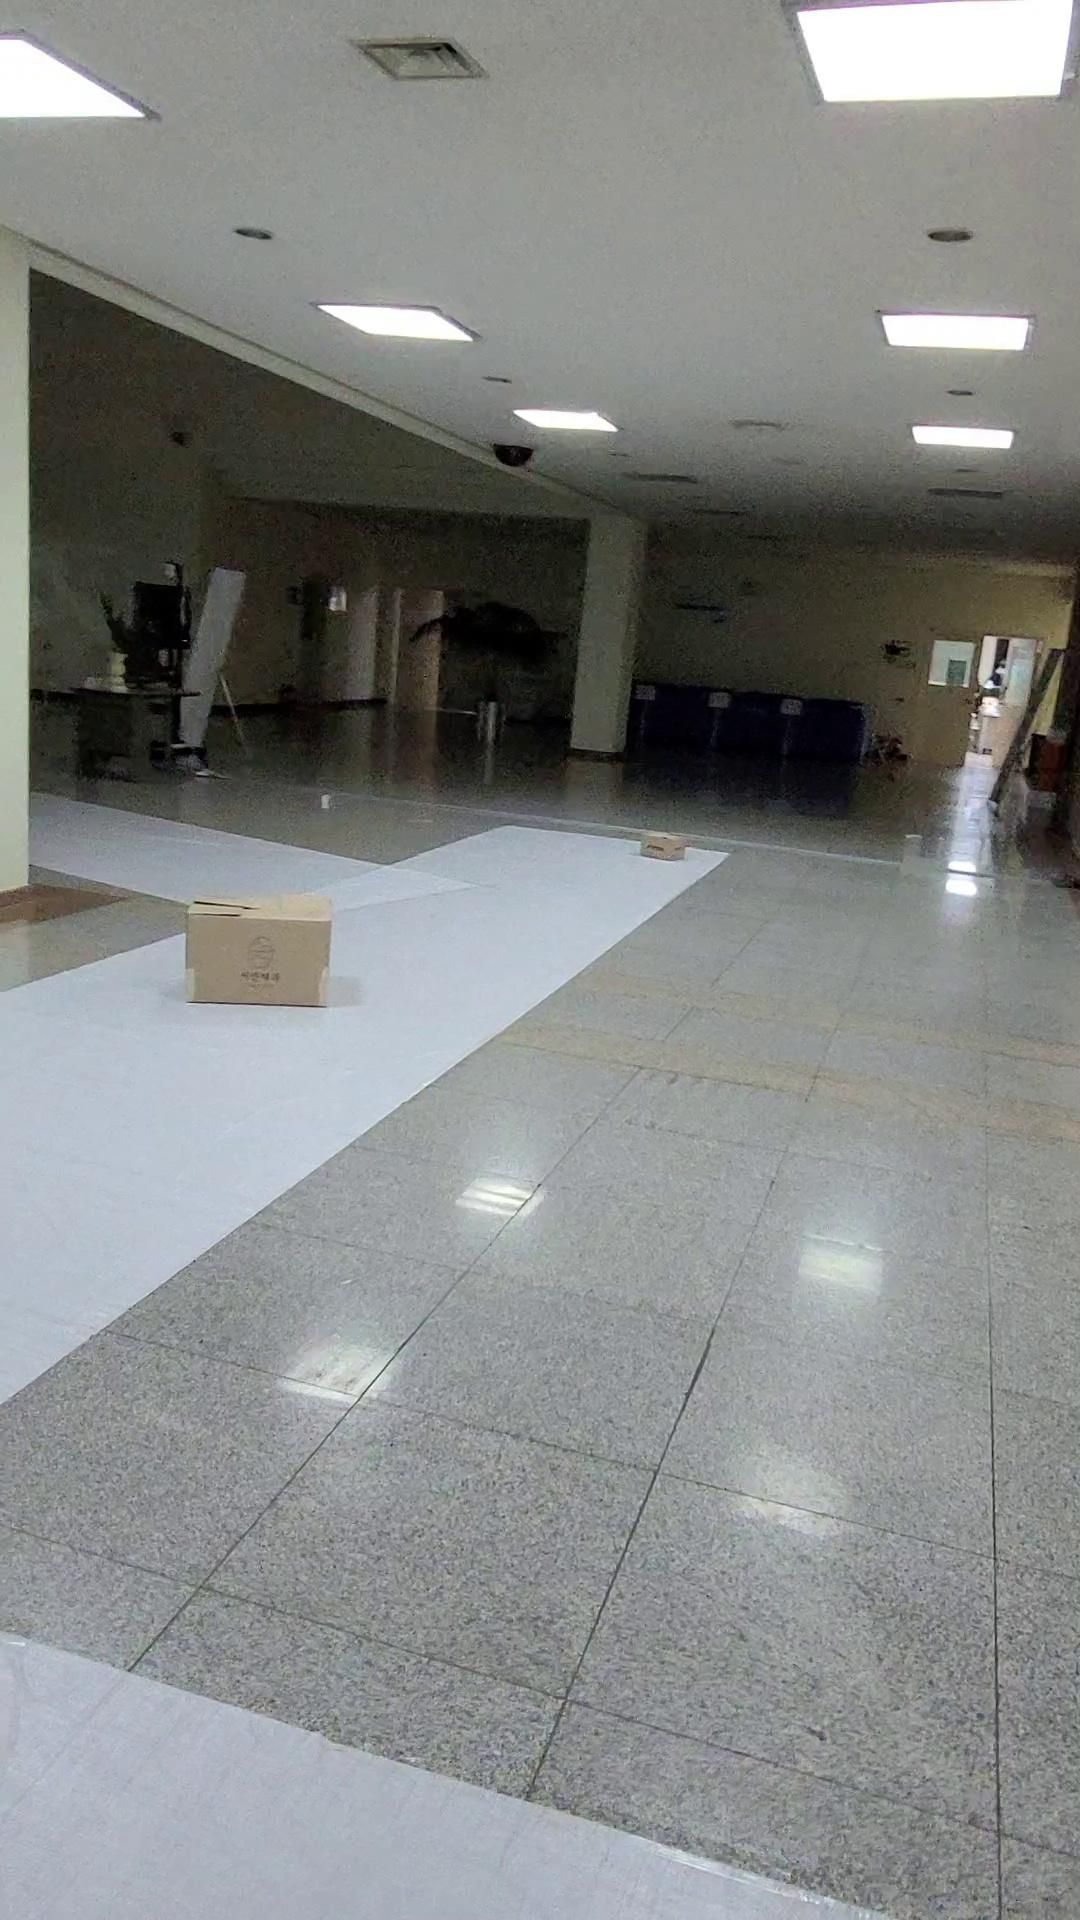Box: (156, 862, 385, 1029), (607, 790, 727, 902)
